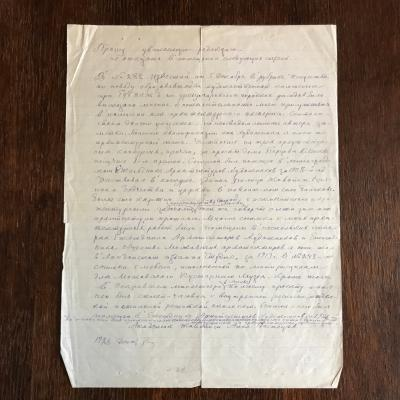document: (65, 25, 342, 390)
